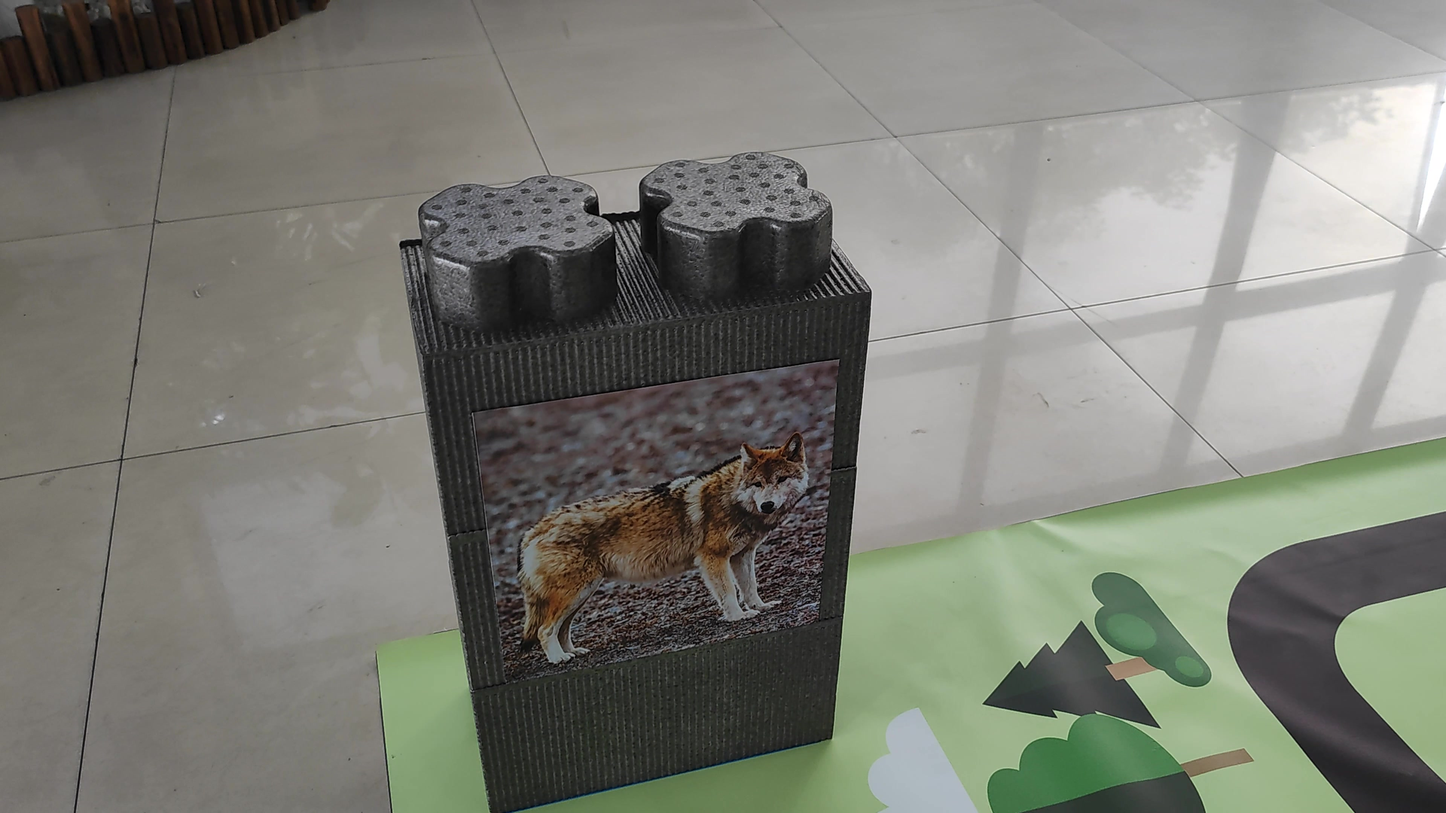wolf: (473, 424, 827, 670)
